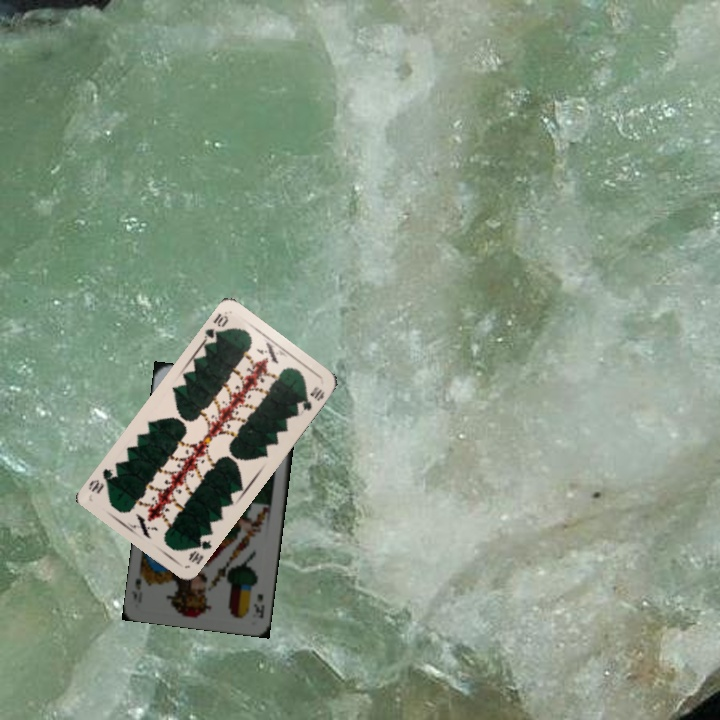EK: (249, 590, 267, 621)
G10: (200, 309, 231, 347), (184, 535, 214, 567)
